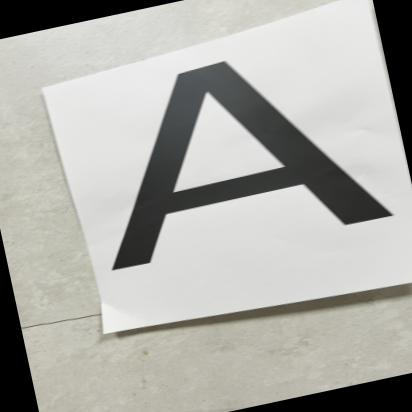seat: (61, 26, 412, 280)
